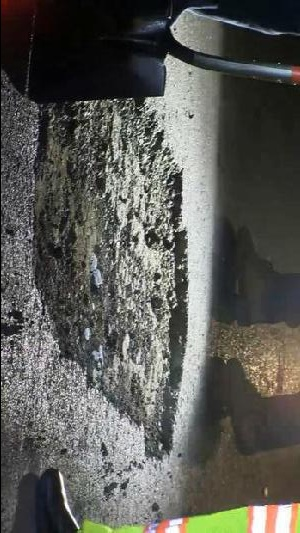pothole: (34, 65, 192, 464)
